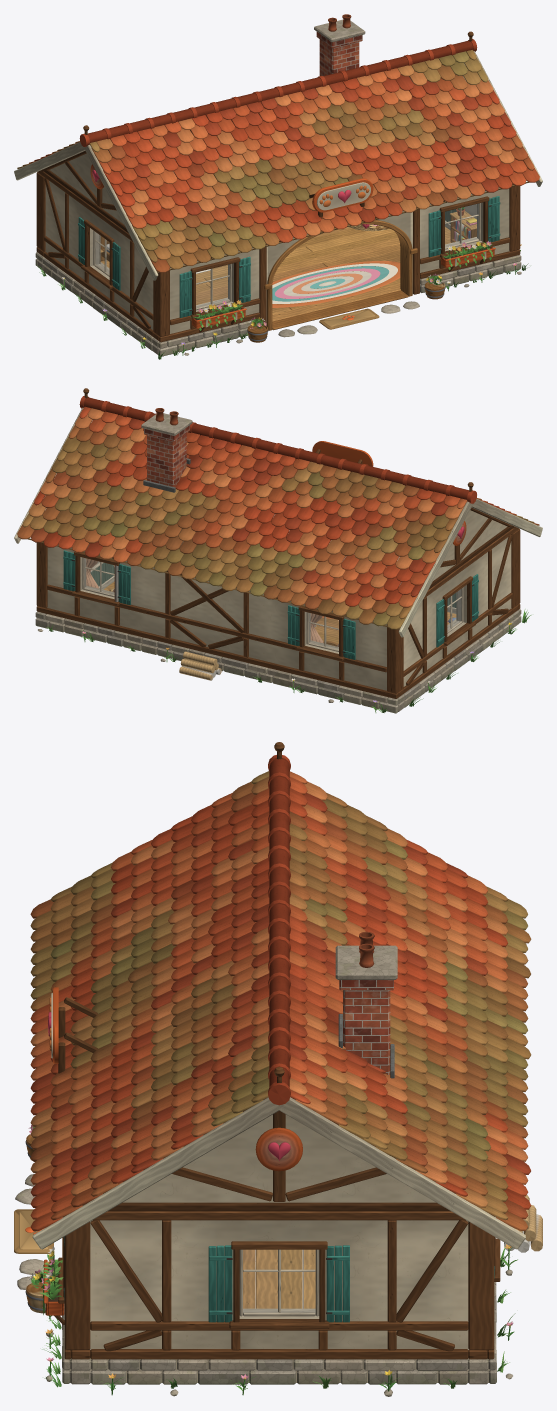
Rendered from home.glb.
The picture shows the model from 3 angles, top to bottom: view 1: azimuth 30°, elevation 25°; view 2: azimuth 150°, elevation 25°; view 3: azimuth 270°, elevation 25°; orthographic projection. The views are drawn at different scales.
Parts seen in each view (by area): view 1: Roof, WallFront, Inside, WallLeft, Outside, WallBack; view 2: Roof, WallBack, WallLeft, Outside, WallFront, Inside, WallRight; view 3: Roof, WallRight, WallFront, Outside, WallBack, Inside.
Part boxes in pixels (<box>): Roof: <box>14,14,542,280</box>; WallFront: <box>152,171,521,356</box>; Inside: <box>100,207,476,330</box>; WallLeft: <box>43,172,153,350</box>; Outside: <box>37,244,528,359</box>; WallBack: <box>35,134,337,270</box>; Roof: <box>14,388,542,637</box>; WallBack: <box>35,541,404,713</box>; WallLeft: <box>403,529,513,707</box>; Outside: <box>38,609,531,712</box>; WallFront: <box>181,486,521,627</box>; Inside: <box>104,544,456,643</box>; WallRight: <box>90,468,136,589</box>; Roof: <box>30,742,531,1249</box>; WallRight: <box>90,1211,468,1384</box>; WallFront: <box>39,1214,90,1384</box>; Outside: <box>14,1125,542,1396</box>; WallBack: <box>468,1214,500,1384</box>; Inside: <box>62,1237,315,1308</box>.
Size of the model in its own units: 3.07 by 1.59 by 2.08.
Materials: 38 (24 with a texture image).
